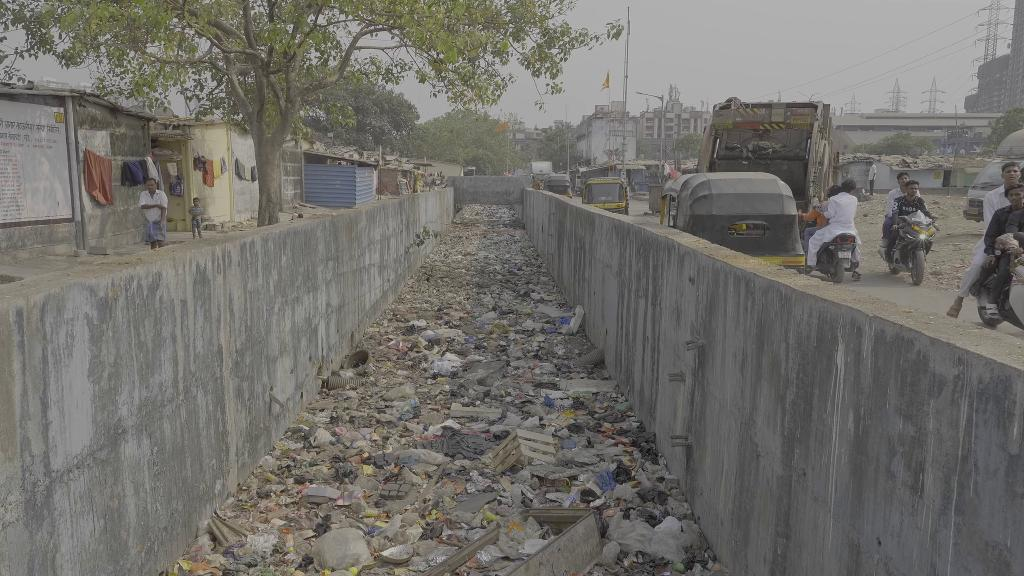garbage: (608, 509, 687, 561), (312, 526, 375, 572), (638, 481, 671, 507), (381, 544, 417, 563), (383, 479, 413, 501), (308, 427, 337, 449), (590, 469, 616, 490), (613, 458, 632, 484), (560, 489, 585, 508), (432, 358, 457, 375), (615, 480, 635, 501), (281, 528, 295, 554), (398, 395, 419, 412), (363, 507, 382, 518)
